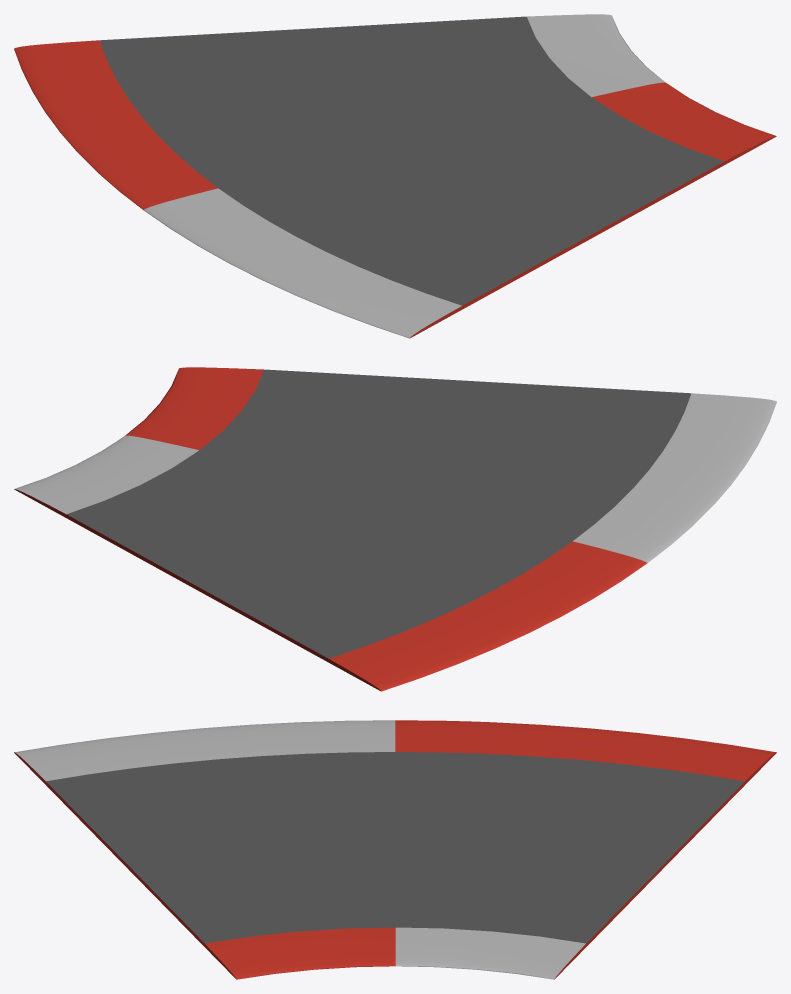
File: VirageMoyen.fbx
The picture shows the model from 3 angles, top to bottom: view 1: azimuth 30°, elevation 25°; view 2: azimuth 150°, elevation 25°; view 3: azimuth 270°, elevation 25°; orthographic projection. The views are drawn at different scales.
Visible parts, largest first — view 1: Body16; view 2: Body16; view 3: Body16.
Boxes of the visible parts, bbox=[...] form: Body16: bbox=[14, 14, 776, 338]; Body16: bbox=[14, 367, 776, 691]; Body16: bbox=[14, 720, 776, 979].
Size of the model in its own units: 14.76 by 0.1 by 18.37.
